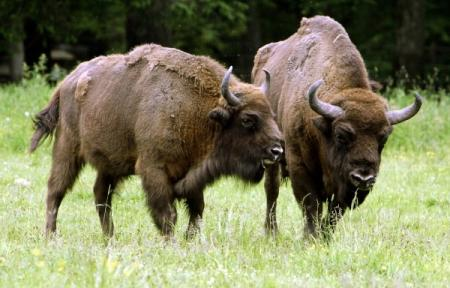zubr: (32, 35, 290, 261), (240, 13, 434, 254)
